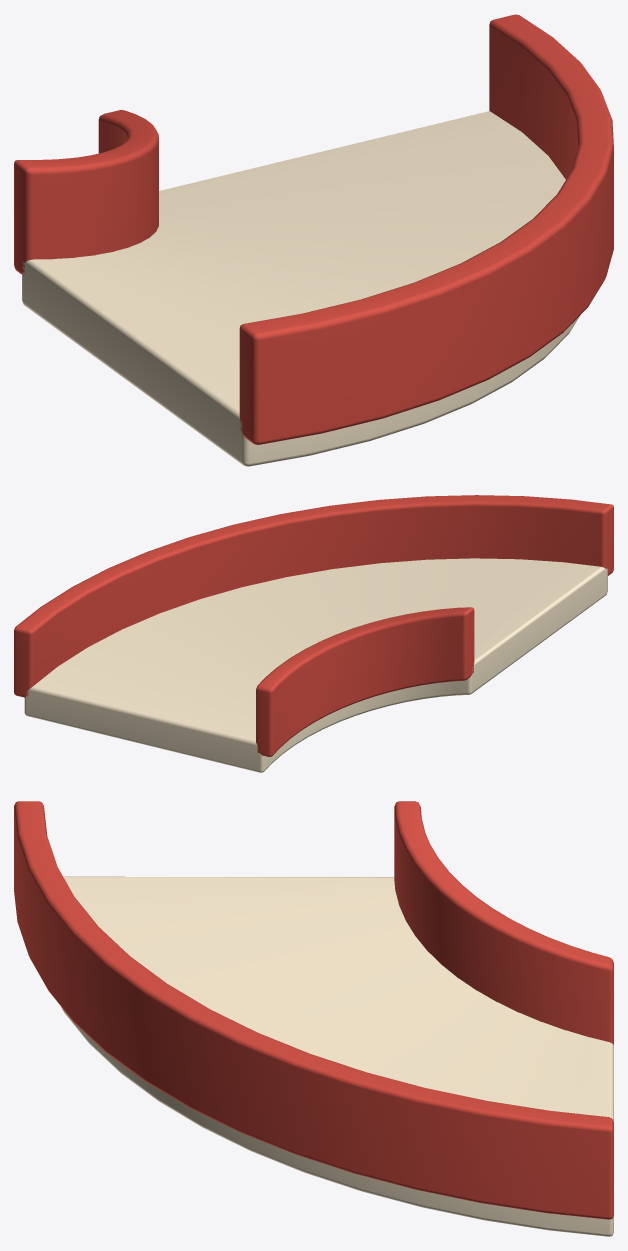
Rendered from A16_ArcChannel.fbx.
3 views of the same model, one above another, from view 1: azimuth 30°, elevation 25°; view 2: azimuth 150°, elevation 25°; view 3: azimuth 270°, elevation 25° (orthographic). The views are drawn at different scales.
Visible parts, largest first — view 1: Vanilla arc bed, Outer red skirting, Inner red skirting; view 2: Vanilla arc bed, Outer red skirting, Inner red skirting; view 3: Vanilla arc bed, Outer red skirting, Inner red skirting.
Boxes of the visible parts, box(x1,y1,x2,y2) form: Vanilla arc bed: box(22, 111, 580, 466); Outer red skirting: box(239, 14, 613, 444); Inner red skirting: box(14, 110, 158, 274); Vanilla arc bed: box(24, 558, 607, 772); Outer red skirting: box(14, 495, 613, 697); Inner red skirting: box(256, 607, 474, 756); Vanilla arc bed: box(60, 876, 613, 1236); Outer red skirting: box(14, 801, 613, 1219); Inner red skirting: box(394, 801, 613, 1044).
Size of what is drawn, in the model's own units: 0.1799 by 0.0637 by 0.1799.
